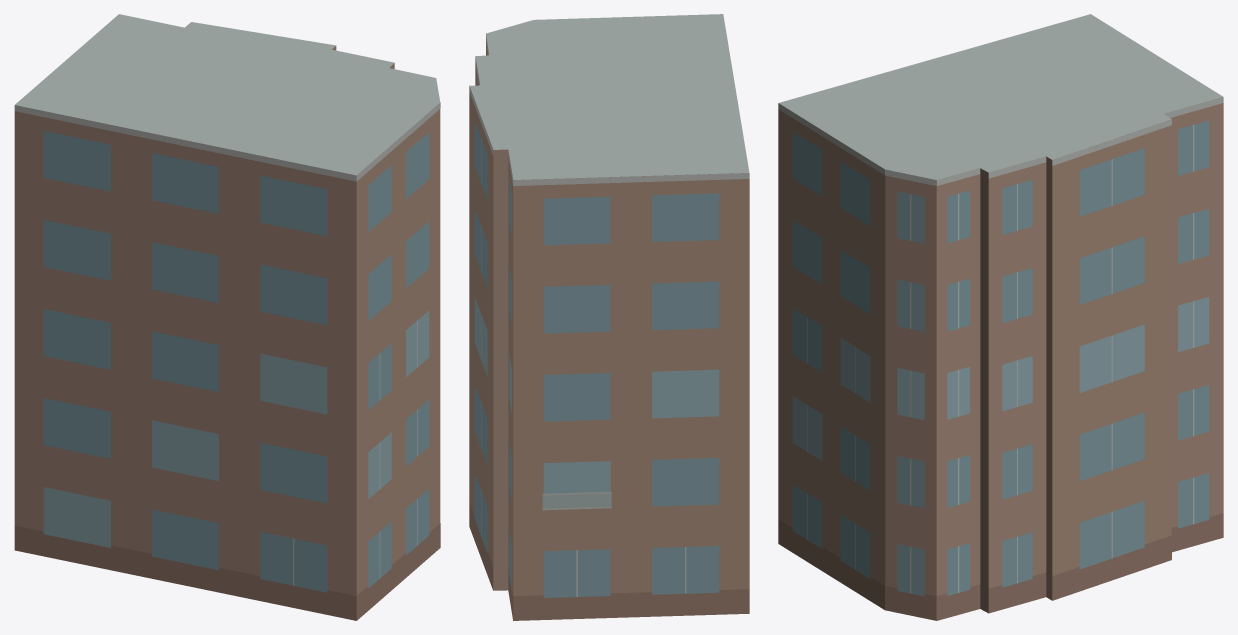
File: survey-upis-32746401.glb
3 renders of one model, left to right at view 1: azimuth 30°, elevation 25°; view 2: azimuth 150°, elevation 25°; view 3: azimuth 270°, elevation 25°, orthographic.
Visible parts, largest first — view 1: survey-upis-32746401.tmp; view 2: survey-upis-32746401.tmp; view 3: survey-upis-32746401.tmp.
Boxes of the visible parts, bbox=[...] form: survey-upis-32746401.tmp: bbox=[14, 14, 440, 620]; survey-upis-32746401.tmp: bbox=[469, 14, 749, 620]; survey-upis-32746401.tmp: bbox=[778, 14, 1223, 620].
Bounding box in the file's own units: 14.39 × 17.8 × 16.3.
